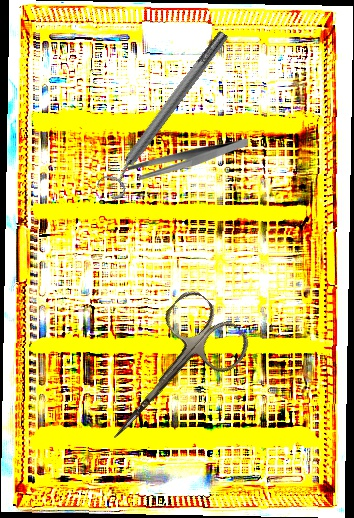Dressing Forceps: (128, 138, 248, 180)
Fixation Ring: (92, 24, 239, 204)
Iris Scissors: (80, 284, 256, 467)
